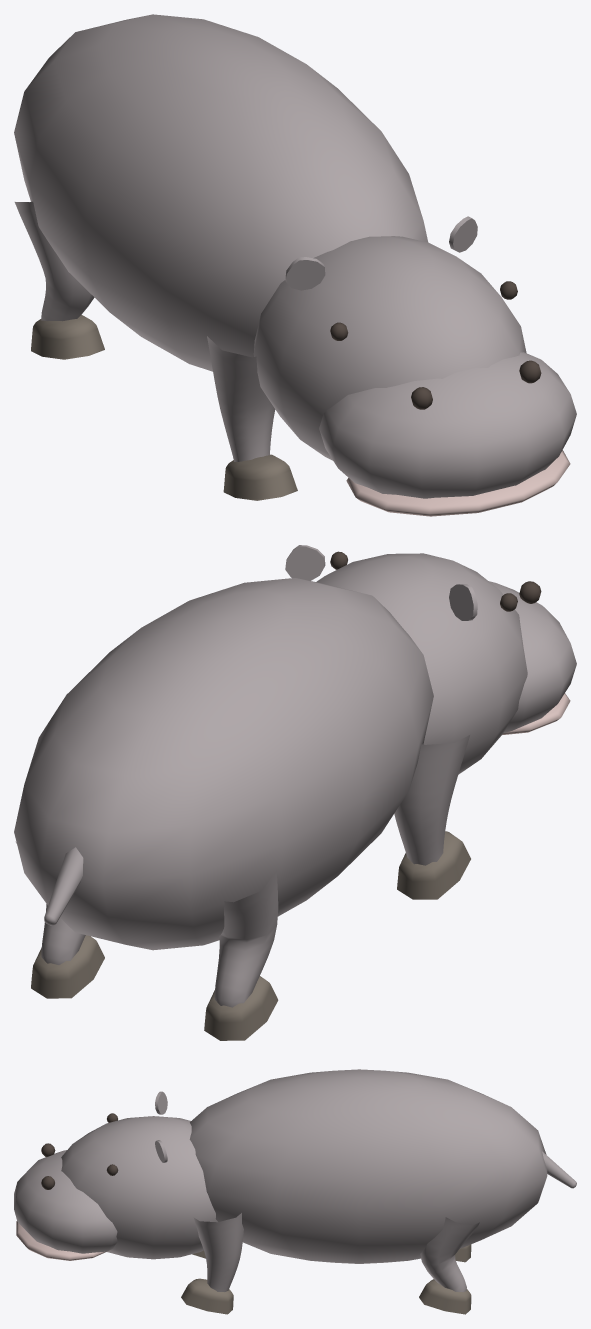
Rendered from savanna-wildlife-hippopotamus-38b77552__6536.glb.
The picture shows the model from 3 angles, top to bottom: view 1: azimuth 30°, elevation 25°; view 2: azimuth 150°, elevation 25°; view 3: azimuth 270°, elevation 25°; orthographic projection. The views are drawn at different scales.
Parts seen in each view (by area): view 1: hippopotamus; view 2: hippopotamus; view 3: hippopotamus.
Boxes of the visible parts, bbox=[...] form: hippopotamus: bbox=[14, 14, 576, 516]; hippopotamus: bbox=[14, 545, 576, 1040]; hippopotamus: bbox=[14, 1069, 576, 1314].
Bounding box in the file's own units: 1.56 × 1.76 × 4.38.
